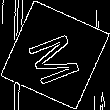M_E: (23, 24, 87, 86)
